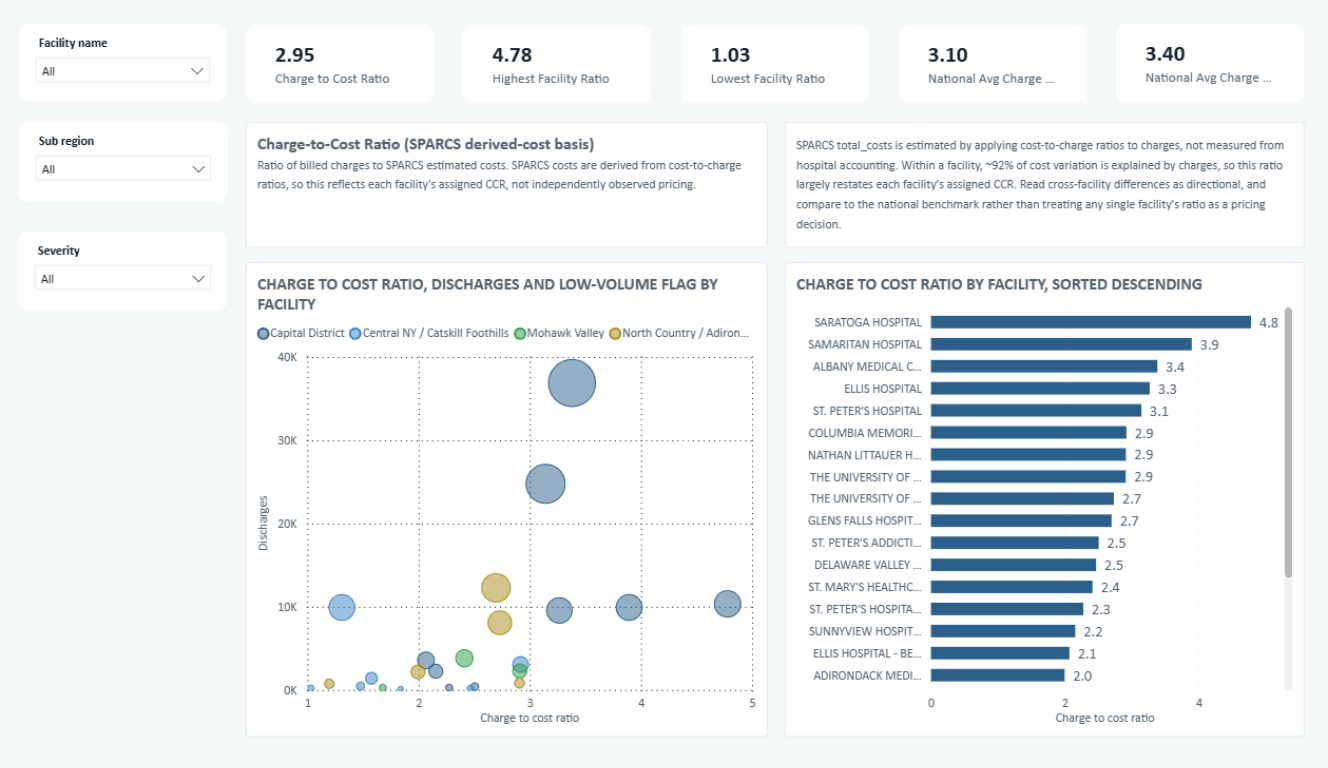

Layout of this report page (visuals, bound fields, positions):
{"tool":"powerbi","page":{"name":"Hospital Pricing Behavior (Q2)","canvas":[1280,720],"ordinal":2},"visuals":[{"type":"cardVisual","fields":{"Data":["_Measures.Highest Facility Ratio"]},"box":[444.8,13.9,180,75],"z":3000},{"type":"cardVisual","fields":{"Data":["_Measures.Charge to Cost Ratio"]},"box":[236.3,13.9,180,75],"z":4000},{"type":"cardVisual","fields":{"Data":["_Measures.Lowest Facility Ratio"]},"box":[653.2,13.9,180,75],"z":5000},{"type":"cardVisual","fields":{"Data":["_Measures.National Avg Charge to Cost Ratio (CMS CCR-based, ~2020)"]},"box":[861.7,13.9,180,75],"z":6000},{"type":"cardVisual","fields":{"Data":["_Measures.National Avg Charge to Cost Ratio (Bai and Anderson, 2012 Medicare data)"]},"box":[1070.1,13.6,179.6,75.6],"z":7000},{"type":"scatterChart","title":"CHARGE TO COST RATIO, DISCHARGES AND LOW-VOLUME FLAG BY FACILITY","fields":{"X":["_Measures.Charge to Cost Ratio"],"Category":["dim_facility.facility_name"],"Series":["dim_facility.sub_region"],"Size":["_Measures.Total Discharges"],"Y":["_Measures.Total Discharges"]},"box":[236.6,241.7,500,454.9],"z":8000},{"type":"barChart","title":"CHARGE TO COST RATIO BY FACILITY, SORTED DESCENDING","fields":{"Category":["dim_facility.facility_name"],"Y":["_Measures.Charge to Cost Ratio"]},"box":[752.4,241.7,497.6,454.9],"z":9000},{"type":"textbox","box":[236.6,107.3,500,120.7],"z":10000},{"type":"textbox","box":[752.4,107.3,497.6,120.7],"z":11000},{"type":"slicer","title":"FACILITY NAME","fields":{"Values":["dim_facility.facility_name"]},"box":[19.5,13.4,198.8,74.4],"z":12000},{"type":"slicer","title":"SUB REGION","fields":{"Values":["dim_facility.sub_region"]},"box":[19.5,107.3,200,75.6],"z":13000},{"type":"slicer","title":"APR SEVERITY OF ILLNESS","fields":{"Values":["fact_discharges.apr_severity_of_illness"]},"box":[18.3,212.2,200,75.6],"z":14000}]}

Visuals, with their boxes in screenshot pixels (x1, y1, x2, y2), scaled from the page's 1280x720 canvas onto the 1328x768 screenshot:
cardVisual - _Measures.Highest Facility Ratio: x1=461, y1=15, x2=648, y2=95
cardVisual - _Measures.Charge to Cost Ratio: x1=245, y1=15, x2=432, y2=95
cardVisual - _Measures.Lowest Facility Ratio: x1=678, y1=15, x2=864, y2=95
cardVisual - _Measures.National Avg Charge to Cost Ratio (CMS CCR-based, ~2020): x1=894, y1=15, x2=1081, y2=95
cardVisual - _Measures.National Avg Charge to Cost Ratio (Bai and Anderson, 2012 Medicare data): x1=1110, y1=15, x2=1297, y2=95
"CHARGE TO COST RATIO, DISCHARGES AND LOW-VOLUME FLAG BY FACILITY" scatterChart: x1=245, y1=258, x2=764, y2=743
"CHARGE TO COST RATIO BY FACILITY, SORTED DESCENDING" barChart: x1=781, y1=258, x2=1297, y2=743
textbox: x1=245, y1=114, x2=764, y2=243
textbox: x1=781, y1=114, x2=1297, y2=243
"FACILITY NAME" slicer: x1=20, y1=14, x2=226, y2=94
"SUB REGION" slicer: x1=20, y1=114, x2=228, y2=195
"APR SEVERITY OF ILLNESS" slicer: x1=19, y1=226, x2=226, y2=307
